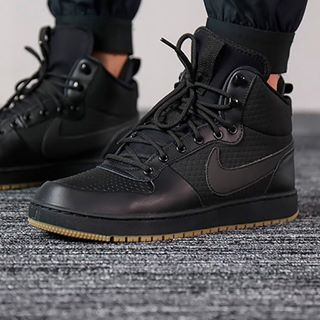nike: (205, 138, 296, 196)
